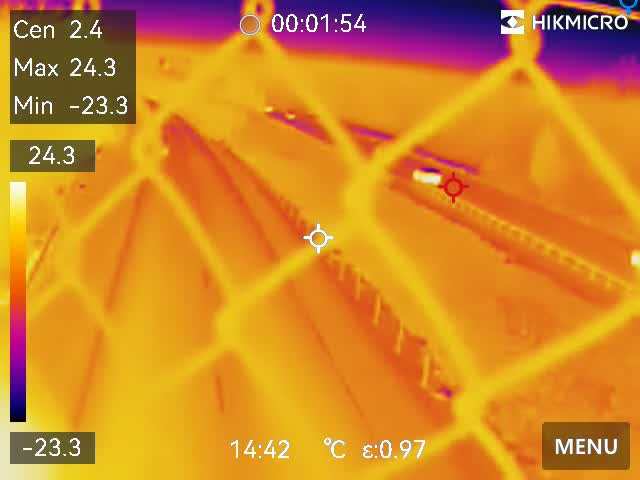vehicle: (405, 165, 449, 184), (278, 110, 299, 120)
